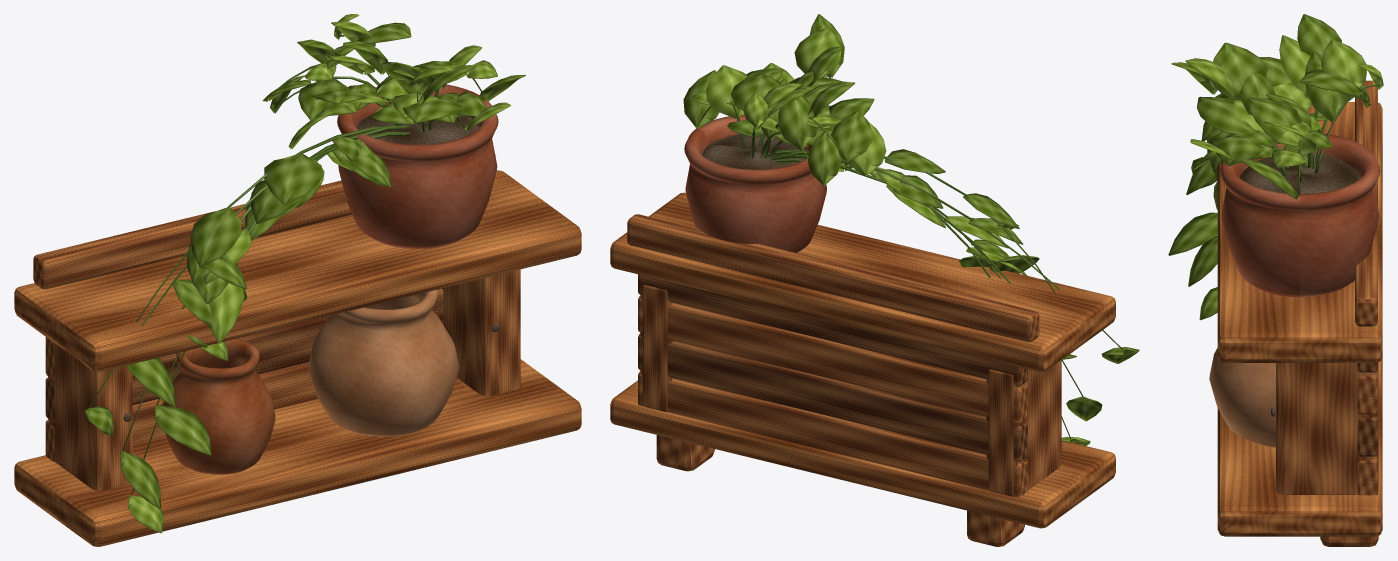
File: shelf-plants-and-jars.glb
3 views of the same model, side by side, from view 1: azimuth 30°, elevation 25°; view 2: azimuth 150°, elevation 25°; view 3: azimuth 270°, elevation 25° (orthographic). The views are drawn at different scales.
Visible parts, largest first — view 1: Top oak slab, Lower oak slab, Pothos foliage, Thrown glazed jar.001, Unglazed plant pot, Thrown glazed jar, Heavy side bracket, Raised lip at rear, Heavy side bracket.001, Recessed back stave.001, Recessed back stave, Pothos vine stems (+1 smaller); view 2: Top oak slab, Pothos foliage, Lower oak slab, Raised lip at rear, Recessed back stave.002, Recessed back stave.001, Recessed back stave, Unglazed plant pot, Recessed back stave.003, Heavy side bracket, Heavy side bracket.001, Pothos vine stems (+3 smaller); view 3: Pothos foliage, Unglazed plant pot, Top oak slab, Heavy side bracket.001, Lower oak slab, Thrown glazed jar.001, Raised lip at rear, Potting soil surface, Pothos vine stems, Recessed back stave.001, Recessed back stave.002, Recessed back stave (+1 smaller).
Part boxes in pixels (box(x1,y1,x2,y2)): Top oak slab: box(14, 170, 581, 371); Lower oak slab: box(14, 359, 581, 546); Pothos foliage: box(84, 14, 525, 533); Thrown glazed jar.001: box(308, 289, 458, 436); Unglazed plant pot: box(337, 84, 498, 248); Thrown glazed jar: box(163, 338, 275, 474); Heavy side bracket: box(48, 343, 132, 490); Raised lip at rear: box(33, 155, 495, 289); Heavy side bracket.001: box(442, 269, 520, 396); Recessed back stave.001: box(45, 288, 443, 422); Recessed back stave: box(45, 362, 317, 461); Pothos vine stems: box(88, 35, 481, 495); Top oak slab: box(610, 192, 1115, 372); Pothos foliage: box(683, 14, 1139, 445); Lower oak slab: box(610, 380, 1115, 528); Raised lip at rear: box(627, 214, 1039, 342); Recessed back stave.002: box(638, 296, 1027, 424); Recessed back stave.001: box(638, 334, 1027, 462); Recessed back stave: box(638, 371, 1027, 497); Unglazed plant pot: box(684, 114, 826, 252); Recessed back stave.003: box(638, 274, 1027, 386); Heavy side bracket: box(986, 360, 1061, 496); Heavy side bracket.001: box(640, 284, 674, 412); Pothos vine stems: box(696, 75, 1123, 438); Pothos foliage: box(1168, 14, 1383, 320); Unglazed plant pot: box(1220, 133, 1380, 297); Top oak slab: box(1217, 102, 1382, 362); Heavy side bracket.001: box(1276, 362, 1378, 494); Lower oak slab: box(1217, 357, 1382, 536); Thrown glazed jar.001: box(1209, 348, 1275, 447); Raised lip at rear: box(1355, 80, 1377, 326); Potting soil surface: box(1240, 153, 1360, 193); Pothos vine stems: box(1257, 85, 1380, 195); Recessed back stave.001: box(1357, 416, 1377, 456); Recessed back stave.002: box(1357, 374, 1377, 414); Recessed back stave: box(1357, 458, 1377, 495).
Size of the model in its own units: 0.9577 by 0.8197 by 0.3575.
Materials: 11 (11 with a texture image).
